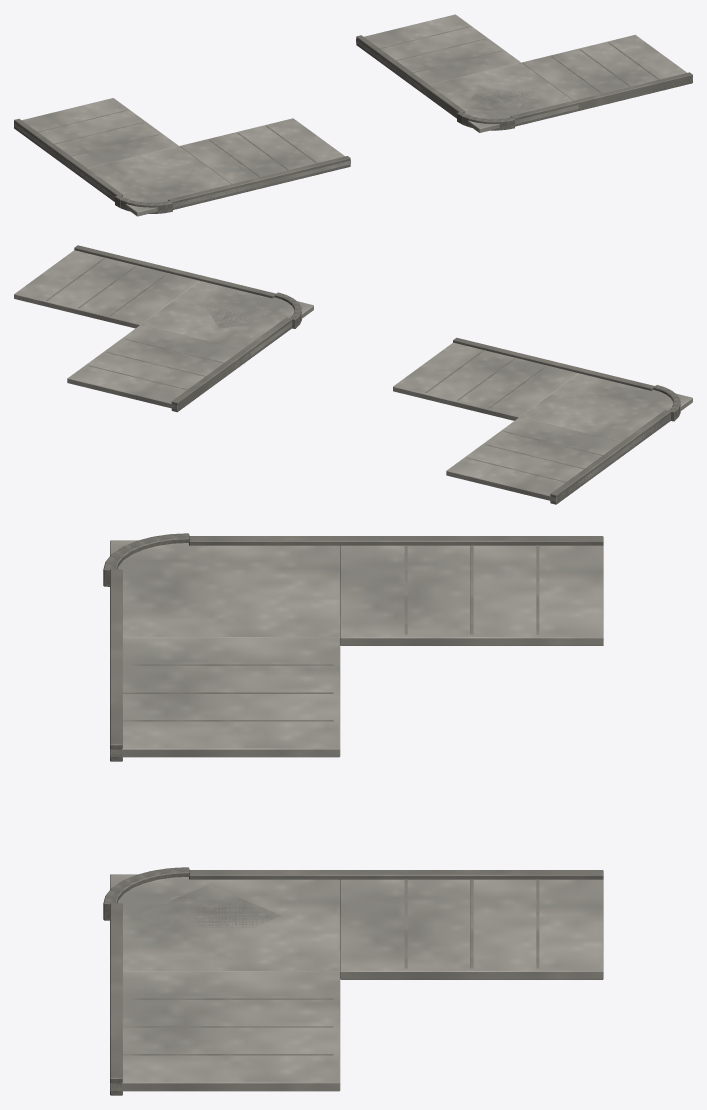
File: sidewalk_corner.glb
3 views of the same model, one above another, from view 1: azimuth 30°, elevation 25°; view 2: azimuth 150°, elevation 25°; view 3: azimuth 270°, elevation 25° (orthographic). The views are drawn at different scales.
Visible parts, largest first — view 1: sidewalk_corner_v2, sidewalk_corner_v1; view 2: sidewalk_corner_v1, sidewalk_corner_v2; view 3: sidewalk_corner_v2, sidewalk_corner_v1.
Boxes of the visible parts, left/top/right/bottom form: sidewalk_corner_v2: left=356, top=14, right=692, bottom=132; sidewalk_corner_v1: left=14, top=98, right=350, bottom=216; sidewalk_corner_v1: left=393, top=337, right=692, bottom=504; sidewalk_corner_v2: left=14, top=245, right=313, bottom=412; sidewalk_corner_v2: left=103, top=867, right=603, bottom=1095; sidewalk_corner_v1: left=103, top=533, right=603, bottom=761.
Bounding box in the file's own units: 19.6 × 0.3 × 7.6.
Materials: 2 (2 with a texture image).
